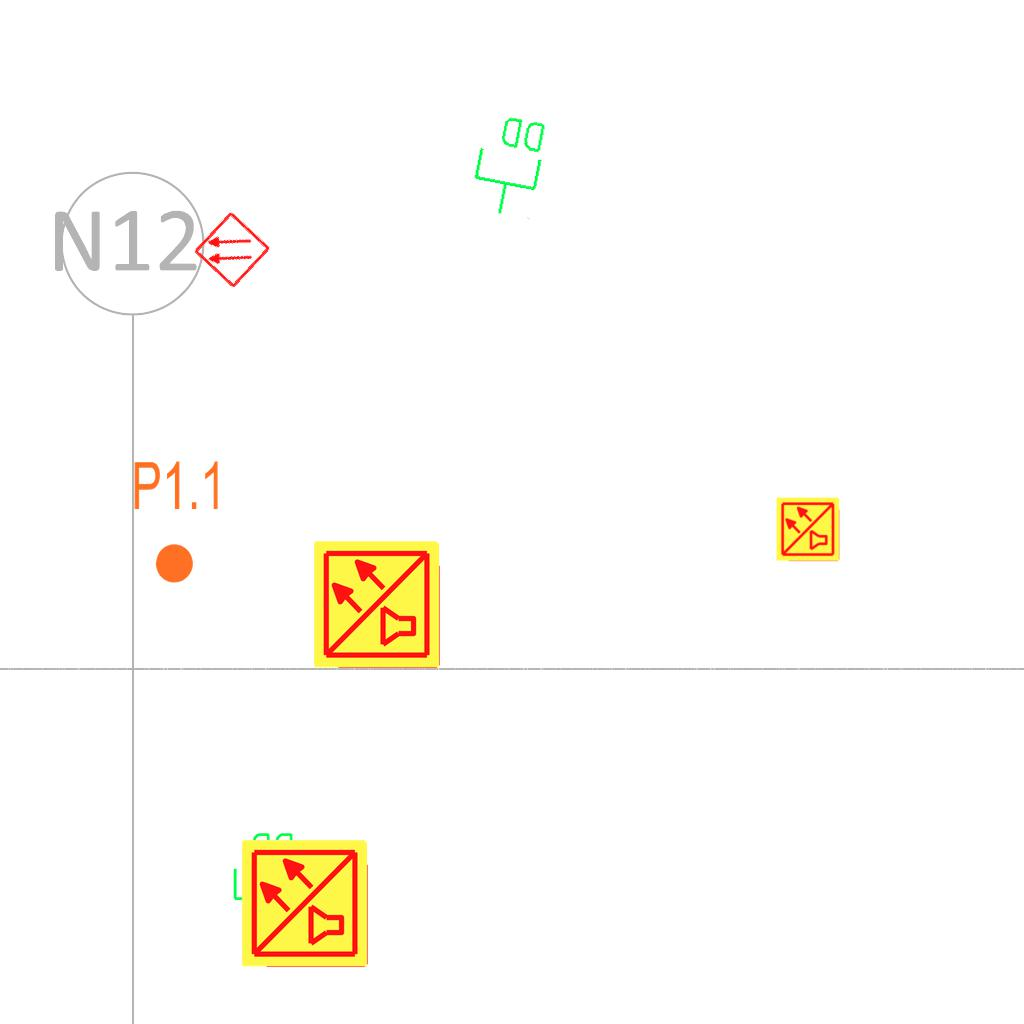Datenanschluss_zweifach: (465, 108, 554, 223), (231, 829, 300, 932)
Downlight_LED_Einbauleuchten_Flur: (131, 458, 224, 586)
OKW_Multisensormelder_(Kombination_optischer_Rauch-Kahlenmonoxid_Waerme-Melder): (311, 538, 443, 670), (239, 837, 371, 969), (775, 496, 841, 562)
RMO_Rauchmelder_optischer: (192, 210, 272, 290)
